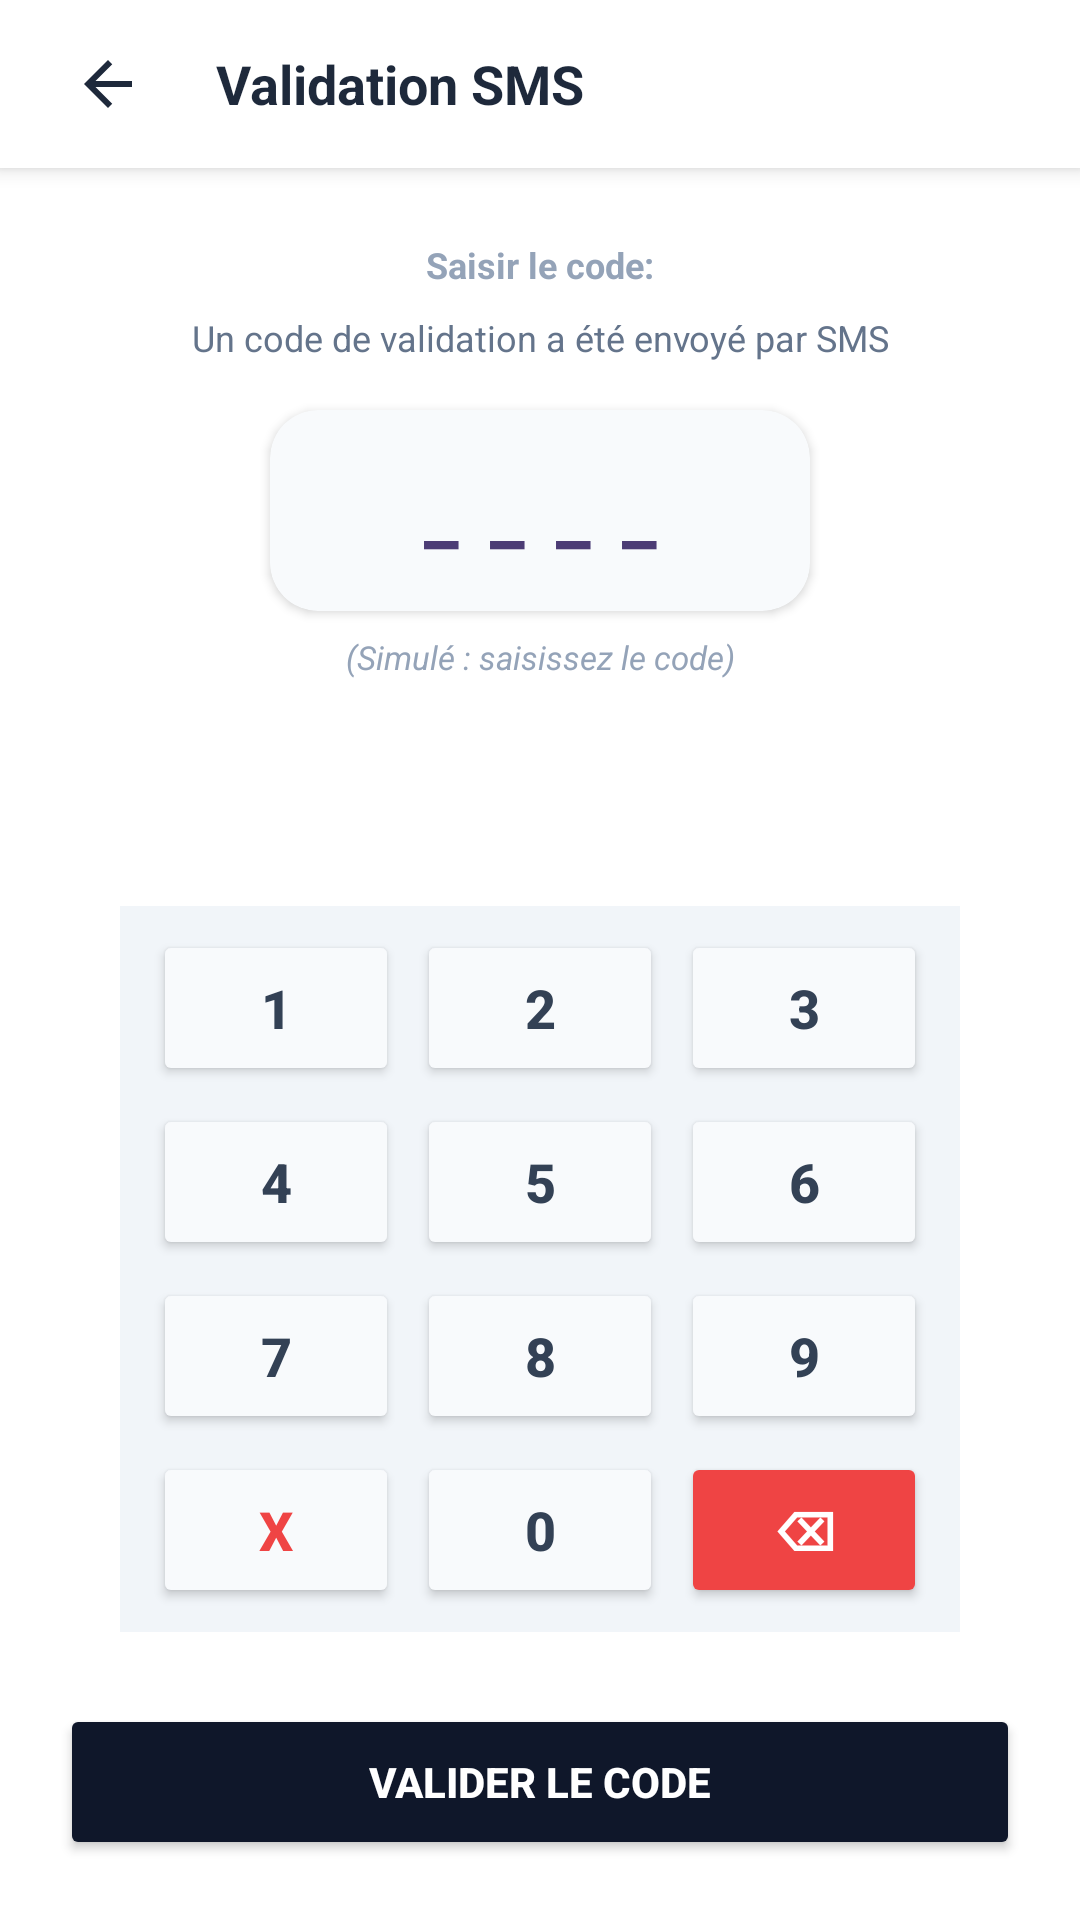

Screen size 1080 x 1920. Icon name, then its center in pixels as (x=x, y=y):
Retour: (x=108, y=84)
